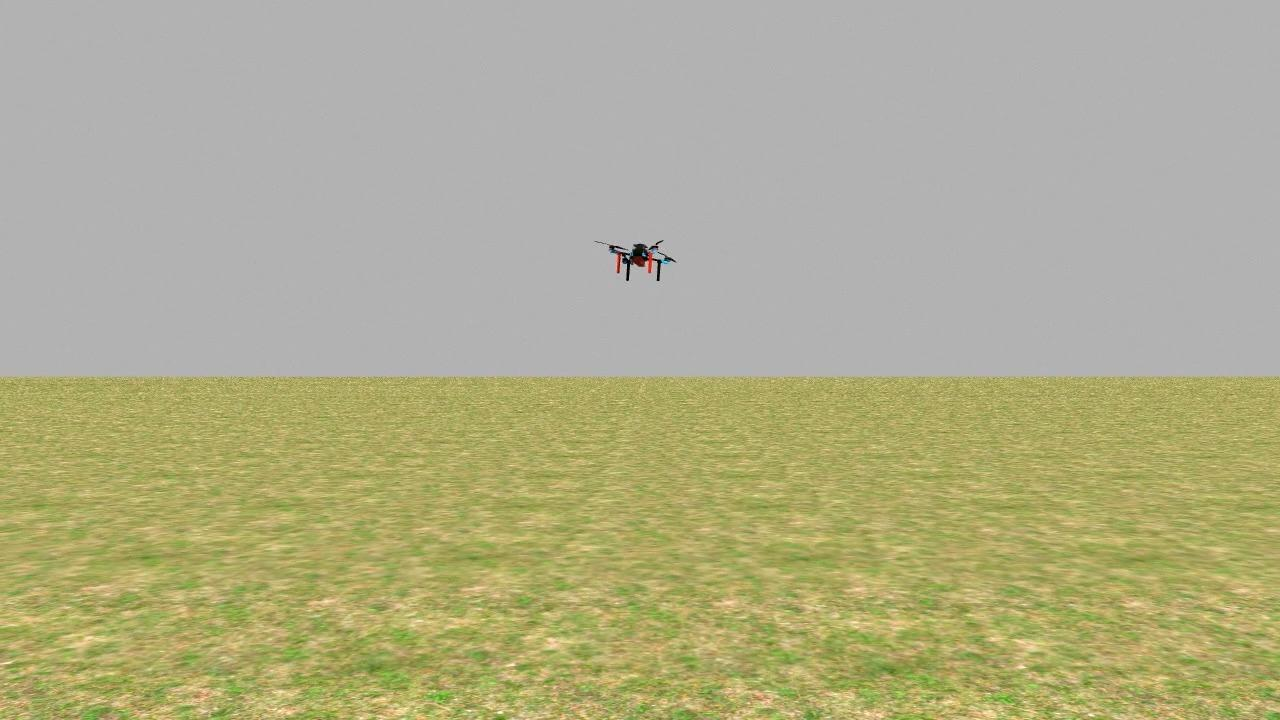UAV: (598, 232, 681, 284)
